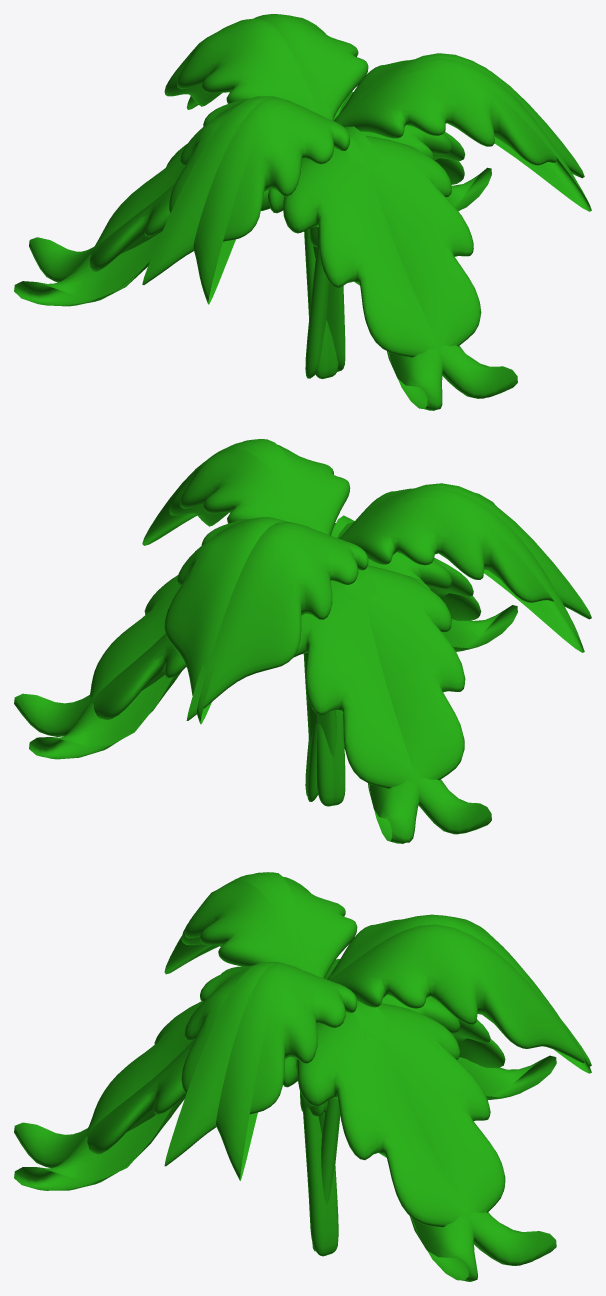
The model's file is Pflanze.fbx.
3 renders of one model, top to bottom at view 1: azimuth 30°, elevation 25°; view 2: azimuth 150°, elevation 25°; view 3: azimuth 270°, elevation 25°, orthographic. The views are drawn at different scales.
Parts seen in each view (by area): view 1: Plane.040, Plane.044, Plane.043, Plane.042, Plane.039, Plane.041; view 2: Plane.039, Plane.043, Plane.041, Plane.042, Plane.044, Plane.040; view 3: Plane.039, Plane.041, Plane.043, Plane.042, Plane.044, Plane.040.
Part boxes in pixels (x1,y1,x2,y2): Plane.040: [268, 126, 517, 410]; Plane.044: [142, 53, 584, 284]; Plane.043: [164, 14, 368, 120]; Plane.042: [169, 58, 591, 304]; Plane.039: [29, 91, 465, 378]; Plane.041: [14, 93, 491, 376]; Plane.039: [29, 565, 465, 843]; Plane.043: [164, 517, 368, 724]; Plane.041: [14, 568, 491, 834]; Plane.042: [169, 439, 591, 619]; Plane.044: [142, 441, 584, 652]; Plane.040: [303, 515, 517, 757]; Plane.039: [283, 959, 556, 1265]; Plane.041: [318, 994, 505, 1281]; Plane.043: [323, 914, 591, 1112]; Plane.042: [164, 874, 357, 1166]; Plane.044: [181, 872, 310, 1180]; Plane.040: [14, 1001, 340, 1251].
Bounding box in the file's own units: 76.24 × 48.05 × 77.15.
